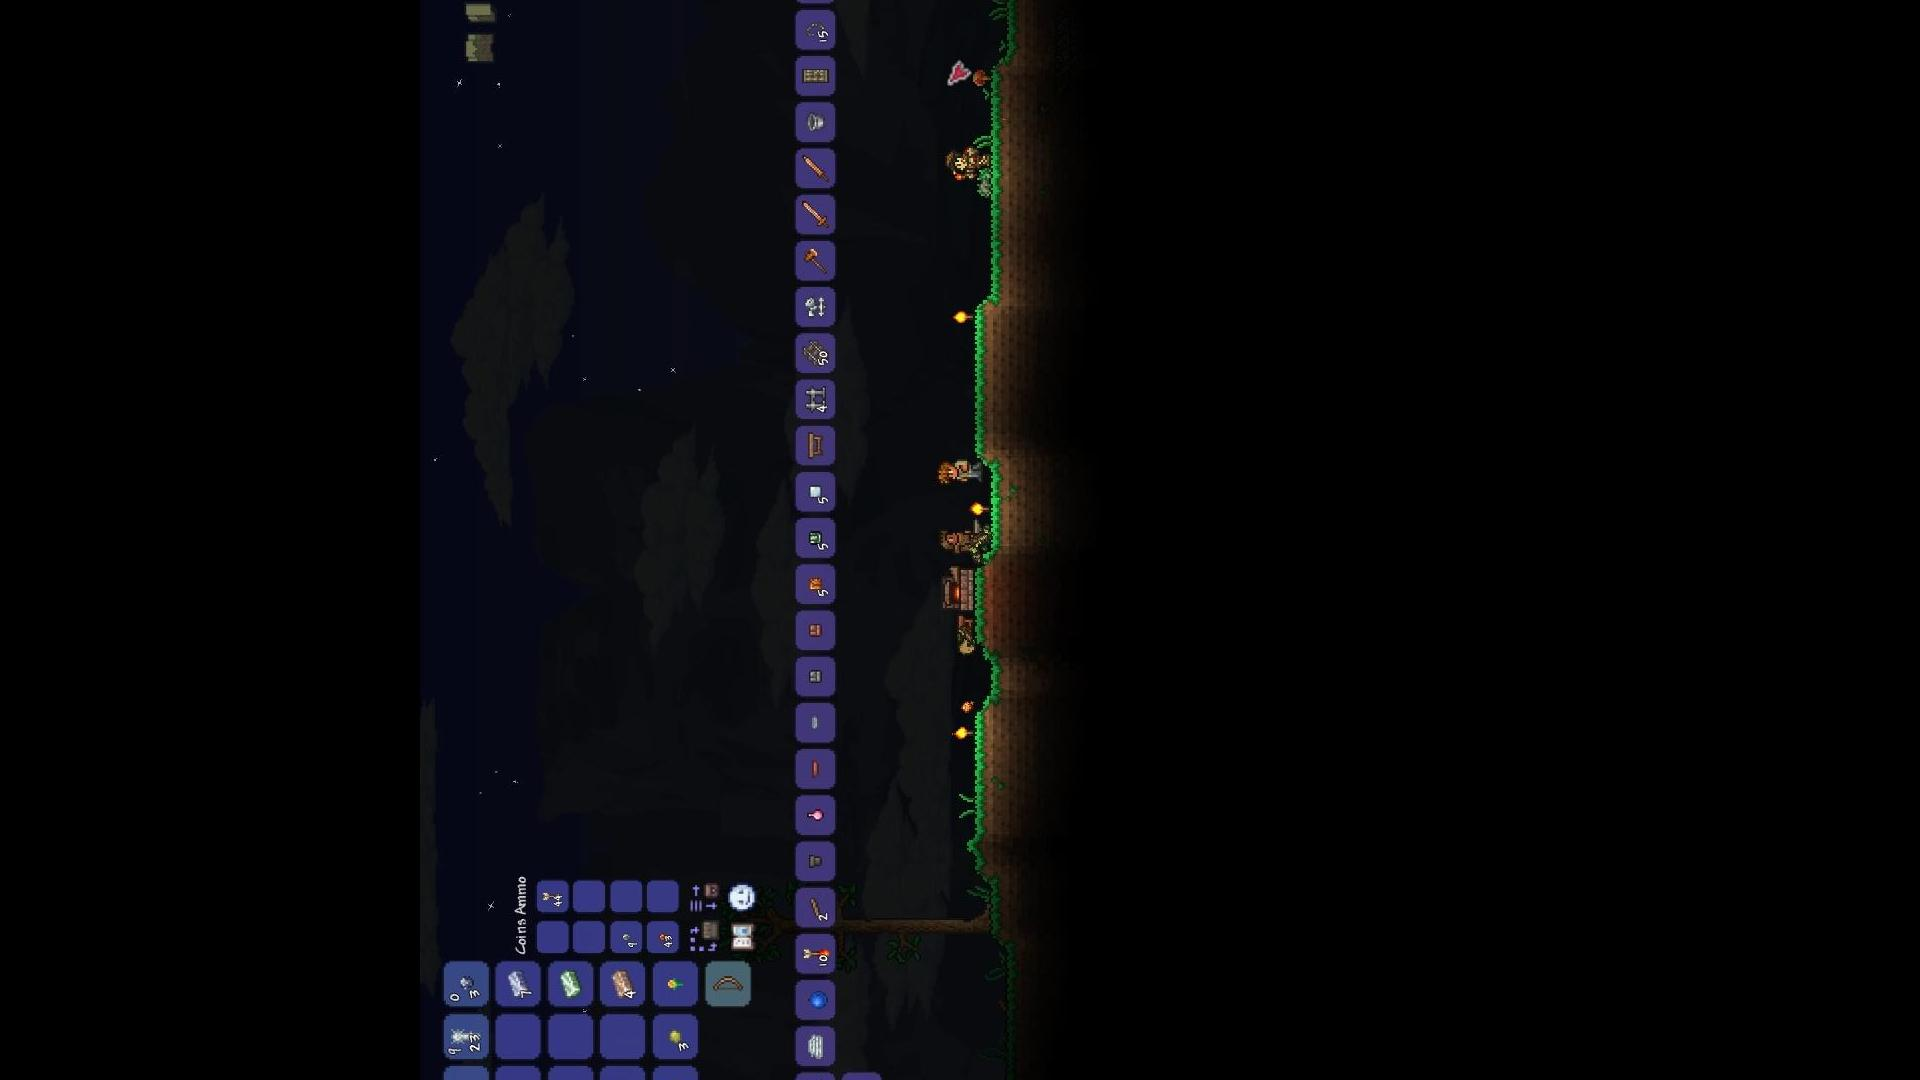dirt: (986, 80, 1040, 313), (967, 551, 1026, 723), (967, 853, 1025, 1015), (973, 291, 1017, 454), (971, 707, 1002, 853), (990, 0, 1035, 86), (986, 454, 1017, 555)
